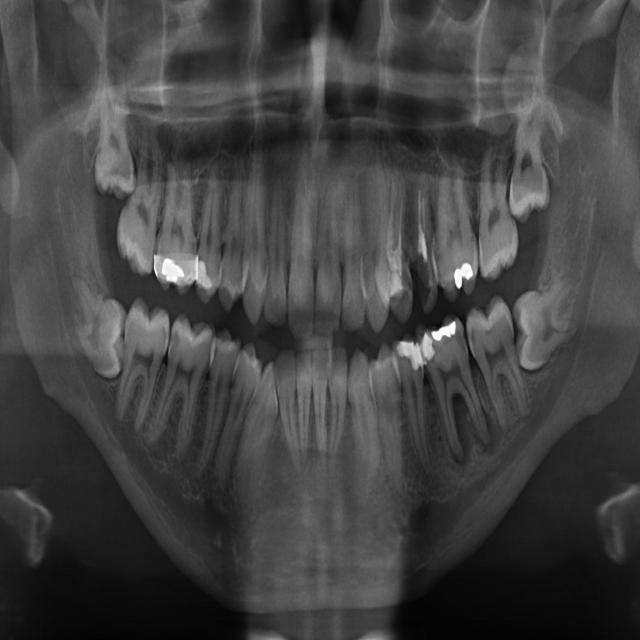3M ESPE Implant: (93, 51, 140, 199)
AGS Medikal Implant: (459, 292, 539, 439)
AMerOss Implant: (412, 309, 496, 467)
Amalgam filling: (112, 123, 169, 279)
Anthogyr Implant: (388, 330, 452, 489)
Bicon Implant: (367, 340, 417, 501)
BioHorizons Implant: (344, 346, 388, 507)
BioLife Implant: (328, 347, 347, 464)
Biomet 3i Implant: (312, 348, 327, 460)
Blue Sky Bio Implant: (295, 350, 312, 460)
Camlog Implant: (275, 347, 303, 479)
Caries: (341, 174, 371, 336)
Composite filling: (226, 358, 286, 513)
Cowellmedi Implant: (203, 340, 267, 499)
Crown: (189, 324, 244, 487)
DENTSPLY Implant: (154, 155, 199, 295)
Dentatus Implant: (141, 311, 221, 469)
Dentis Implant: (110, 295, 175, 438)
Dentium Implant: (53, 275, 137, 380)
Euroteknika Implant: (193, 159, 230, 306)
Filling: (215, 153, 257, 314)
Frontier Implant: (240, 108, 275, 329)
Hiossen Implant: (364, 166, 390, 334)
Implant: (287, 152, 318, 343)
Implant Direct: (263, 170, 286, 328)
Keystone Dental Implant: (315, 179, 344, 339)
MIS Implant: (380, 159, 415, 325)
Mandible: (401, 160, 440, 316)
Maxilla: (451, 179, 452, 181)
Megagen Implant: (479, 134, 519, 283)
Neodent Implant: (510, 88, 551, 223)
Neoss Implant: (512, 273, 581, 371)
